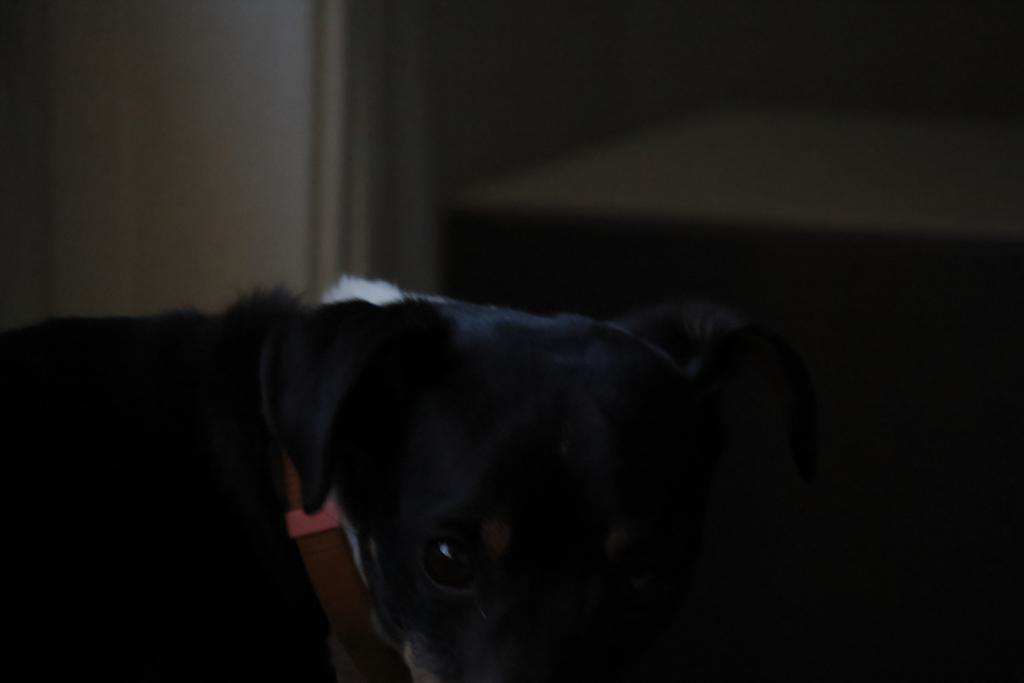Dog: (0, 267, 838, 683)
